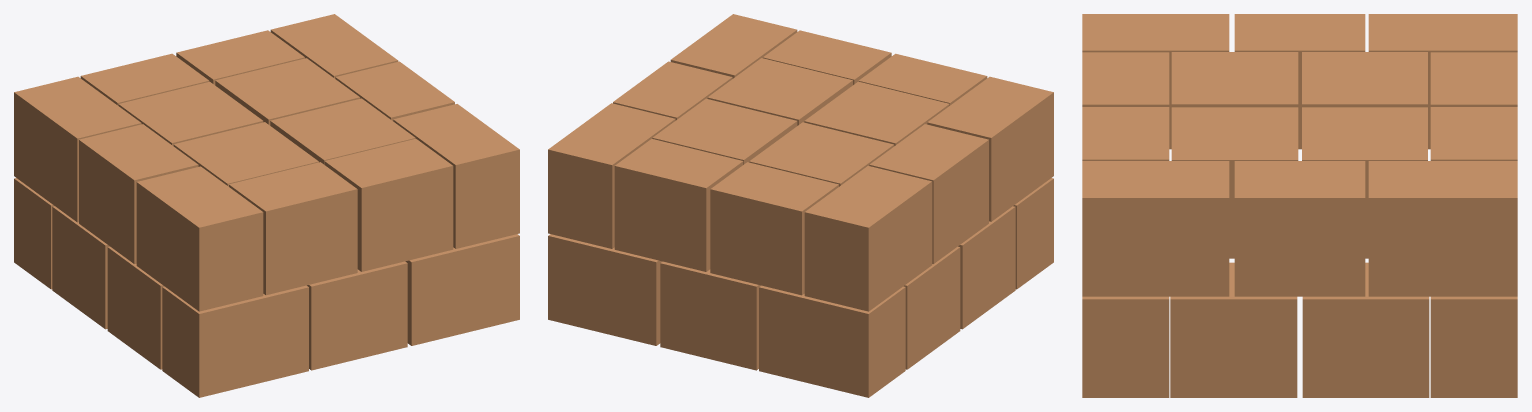
The model's file is Brick.fbx.
The picture shows the model from 3 angles, left to right: view 1: azimuth 30°, elevation 25°; view 2: azimuth 150°, elevation 25°; view 3: azimuth 270°, elevation 25°; orthographic projection. The views are drawn at different scales.
Visible parts, largest first — view 1: Cube.014; view 2: Cube.014; view 3: Cube.014.
Part boxes in pixels (x1,y1,x2,y2): Cube.014: [14, 14, 519, 397]; Cube.014: [548, 14, 1053, 397]; Cube.014: [1082, 14, 1517, 397].
Bounding box in the file's own units: 200 × 101 × 200.
1 material, 1 textured.
